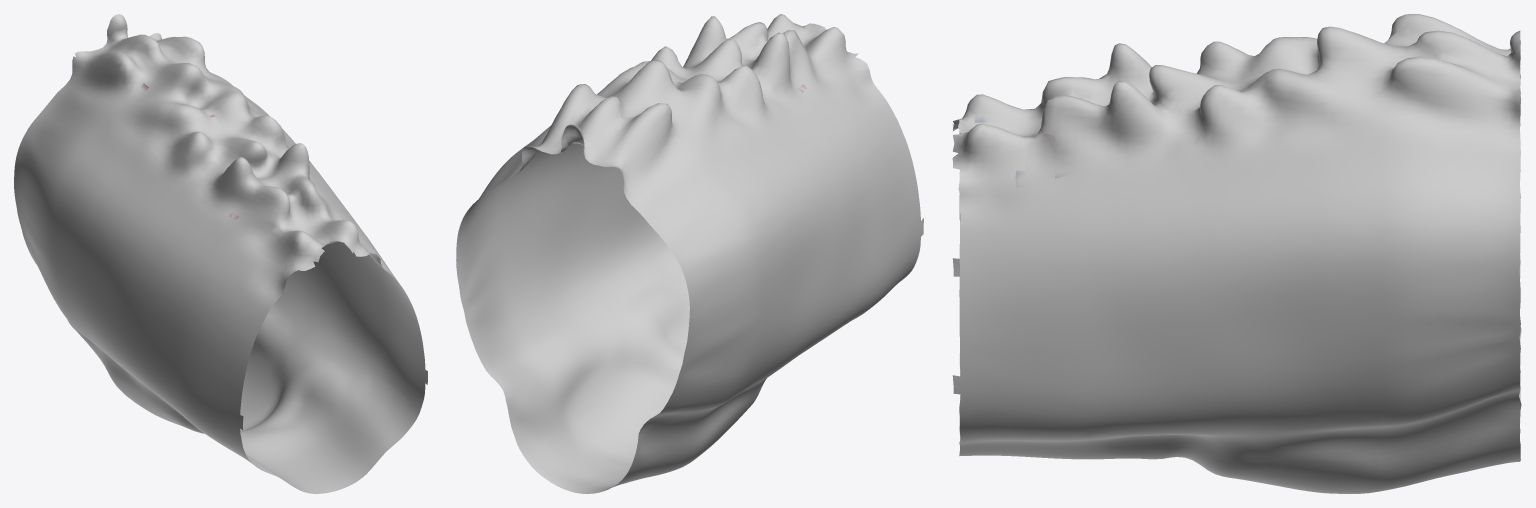
File: bodyPart03V2.gltf
3 renders of one model, left to right at view 1: azimuth 30°, elevation 25°; view 2: azimuth 150°, elevation 25°; view 3: azimuth 270°, elevation 25°, orthographic. The views are drawn at different scales.
Visible parts, largest first — view 1: bodyPart03; view 2: bodyPart03; view 3: bodyPart03.
Part boxes in pixels (x1,y1,x2,y2): bodyPart03: (14,14,427,493); bodyPart03: (456,14,923,493); bodyPart03: (952,14,1521,493).
Bounding box in the file's own units: 0.5766 × 0.8263 × 0.9356.
Materials: 1 (1 with a texture image).
